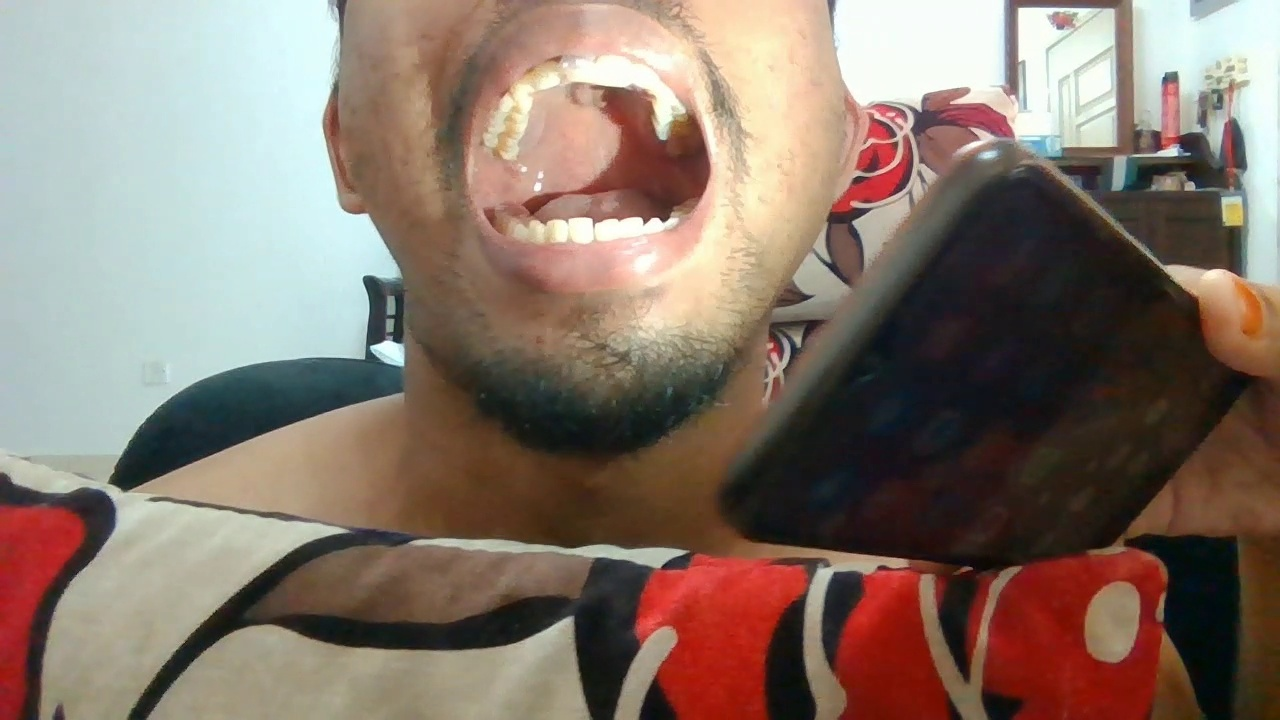1st Molar: (491, 124, 528, 140), (654, 126, 689, 139)
1st Premolar: (499, 94, 532, 114), (652, 101, 686, 115), (513, 224, 528, 240), (665, 218, 679, 231)
2nd Molar: (483, 134, 520, 147), (666, 142, 701, 155)
2nd Premolar: (493, 109, 528, 125), (655, 115, 692, 126)
3rd Molar: (495, 148, 520, 161)
Canine: (650, 82, 677, 104), (511, 75, 532, 102), (528, 220, 547, 243), (643, 215, 665, 234)
Central Incisor: (597, 54, 632, 86), (559, 54, 597, 83), (568, 217, 594, 244), (594, 217, 620, 242)
Lateral Incisor: (533, 60, 560, 90), (633, 61, 661, 89), (620, 216, 643, 239), (547, 219, 568, 243)
